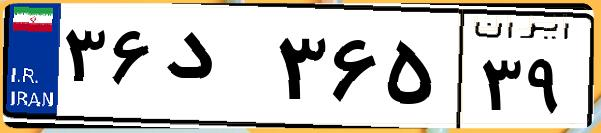3: (270, 28, 330, 110), (57, 26, 110, 100), (475, 38, 525, 113)
5: (385, 28, 445, 110)
6: (330, 28, 385, 110), (110, 28, 158, 98)
9: (525, 38, 570, 115)
د: (158, 20, 270, 120)
